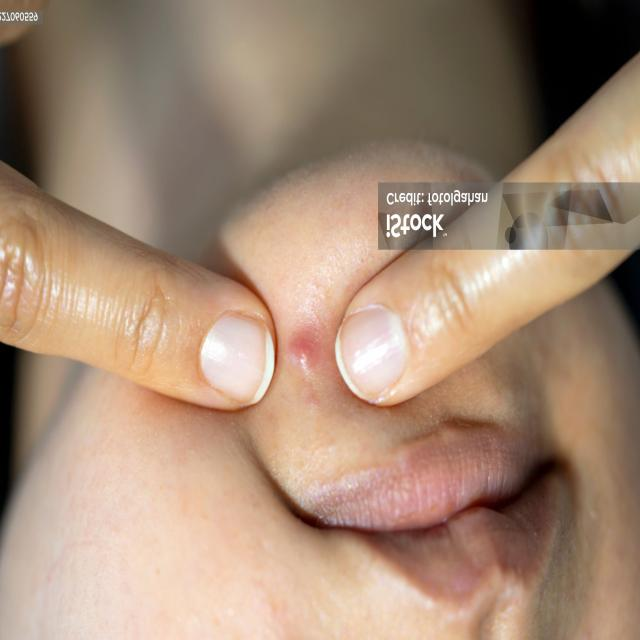papule: (284, 334, 326, 381)
